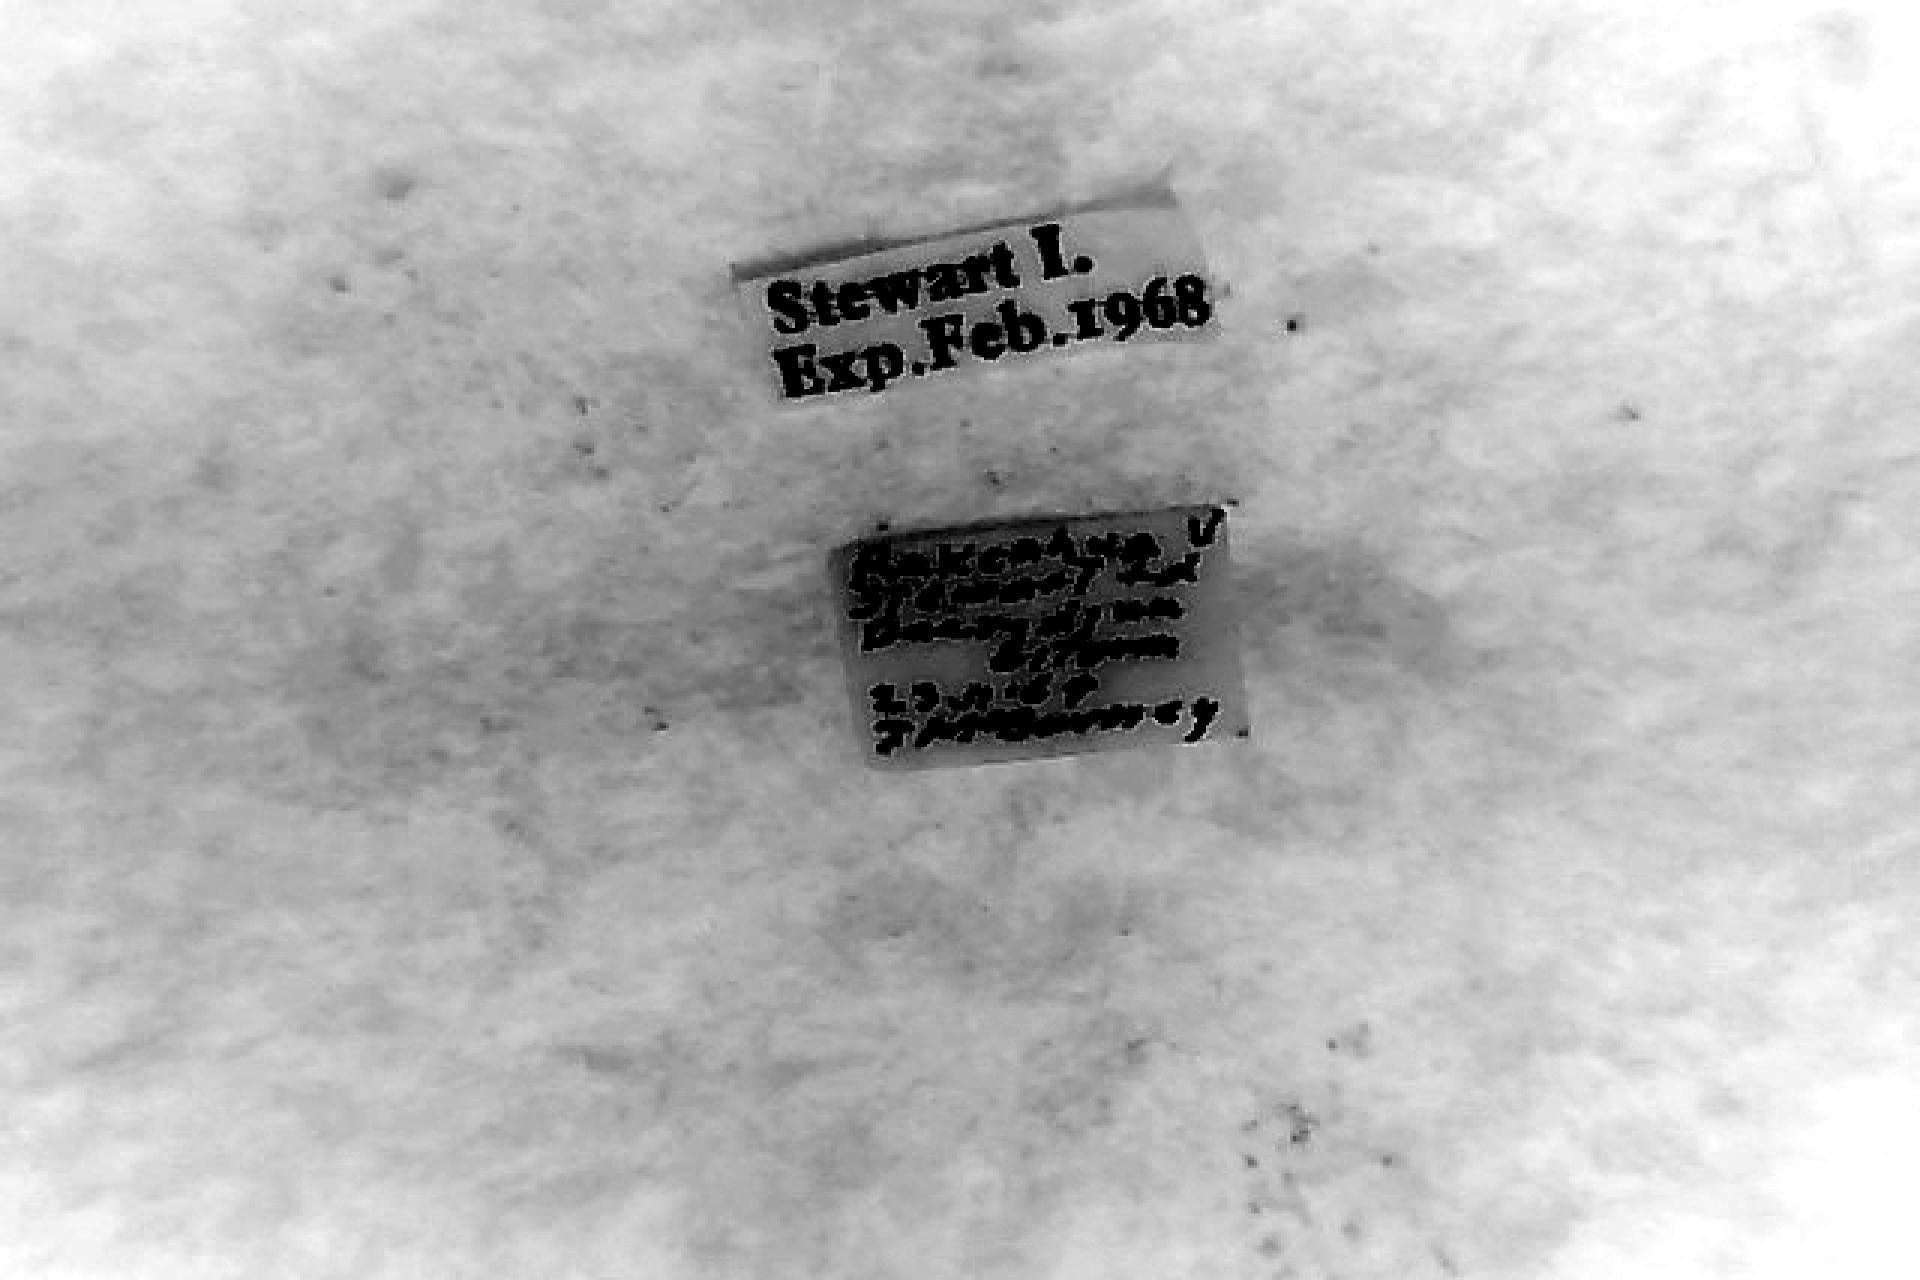hand_label: (836, 507, 1249, 766)
typed_label: (739, 193, 1214, 399)
